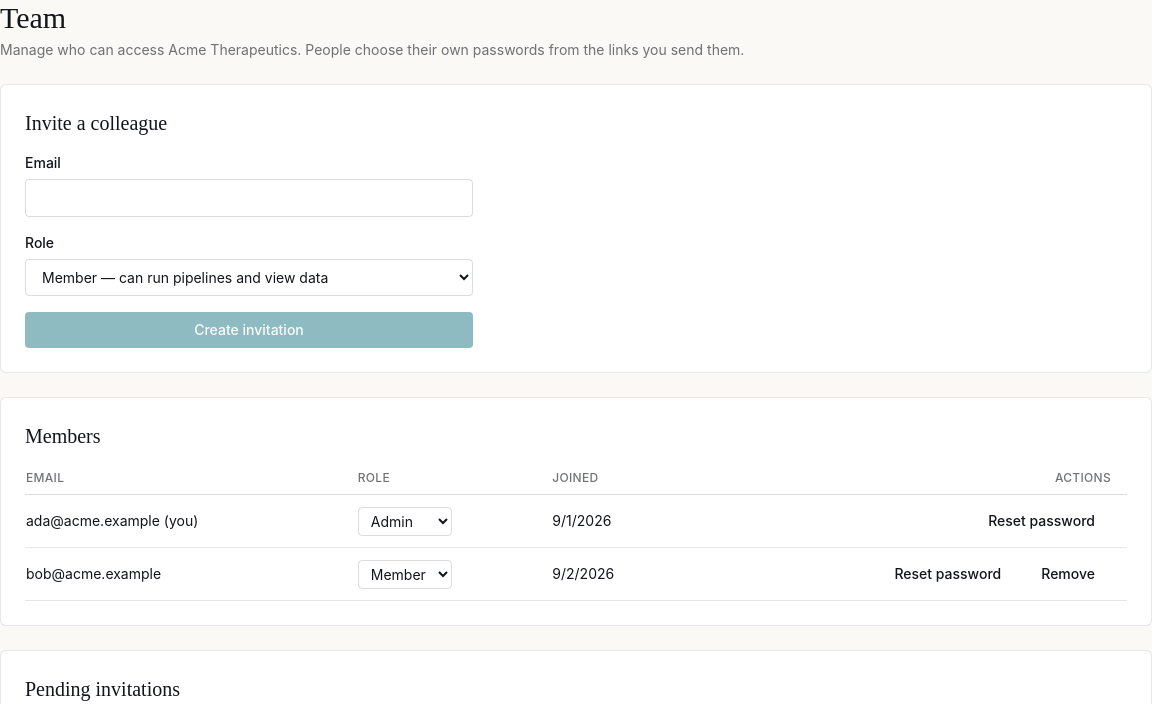
Test: Team › removes a member after confirmation
The image size is (1152, 704).
Step 1. Click the button "Remove" → x=1068, y=574, box top-left (1025, 556), bottom-right (1111, 592)
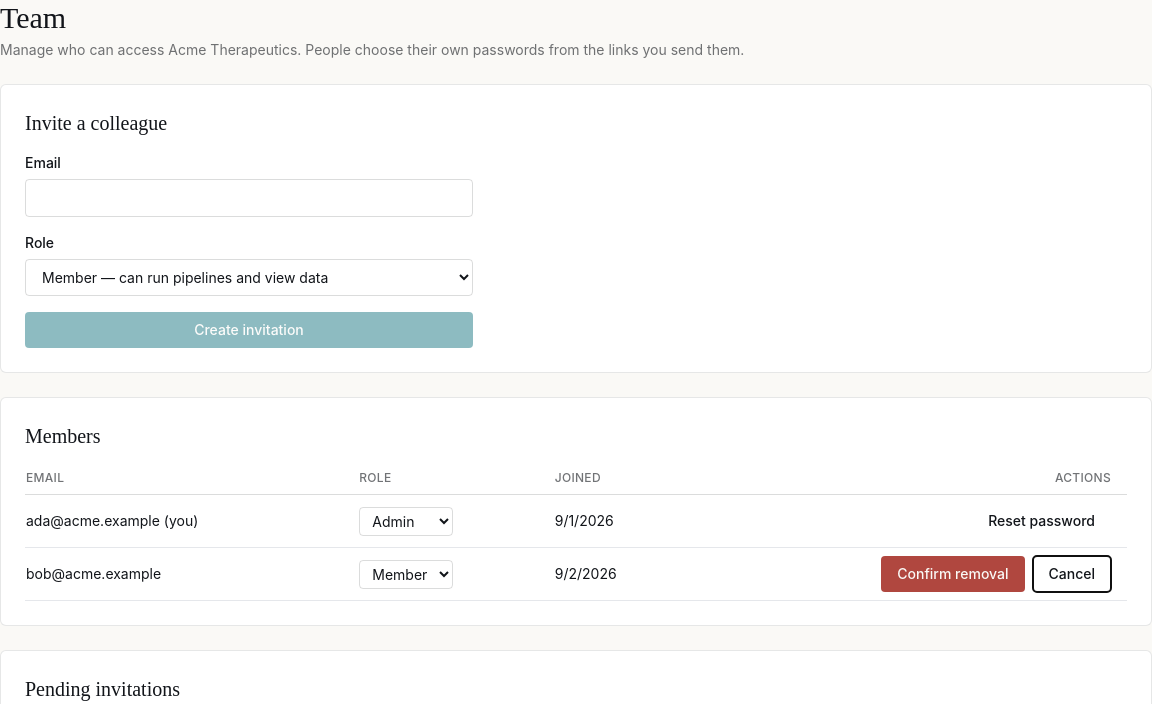
Step 2. Click the button "Cancel" → x=1072, y=574, box top-left (1032, 556), bottom-right (1111, 592)
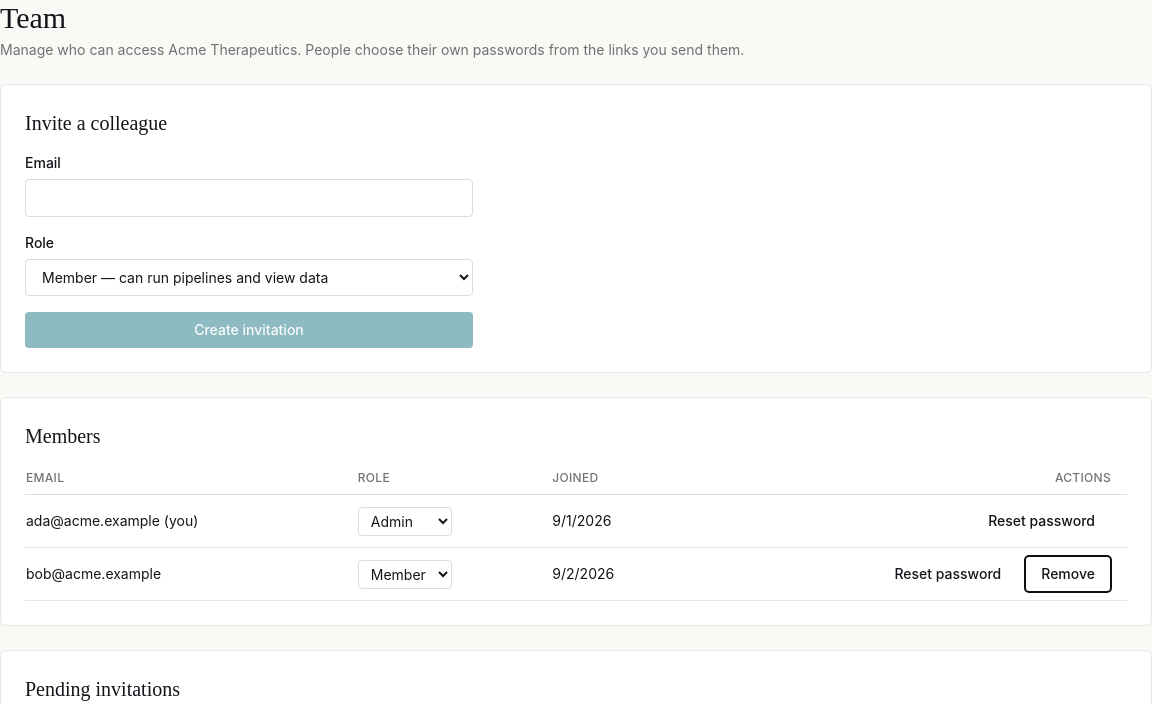
Step 3. Click the button "Remove" → x=1068, y=574, box top-left (1025, 556), bottom-right (1111, 592)
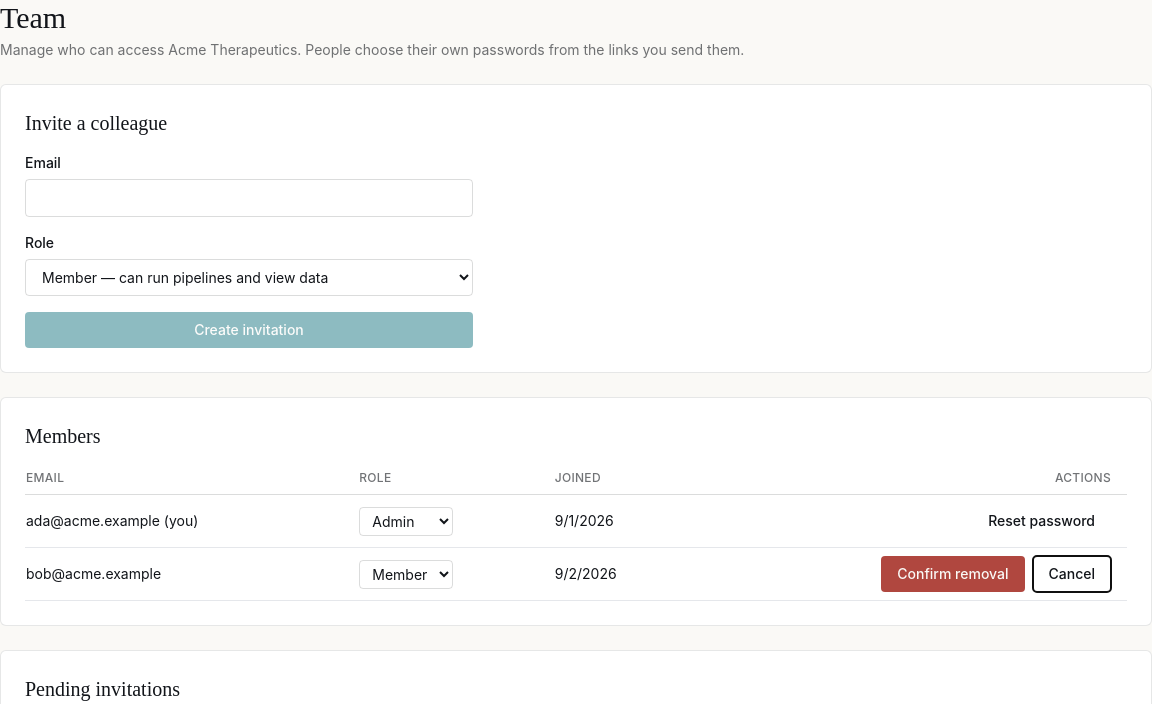
Step 4. Click the button "Confirm removal" → x=953, y=574, box top-left (881, 556), bottom-right (1024, 592)
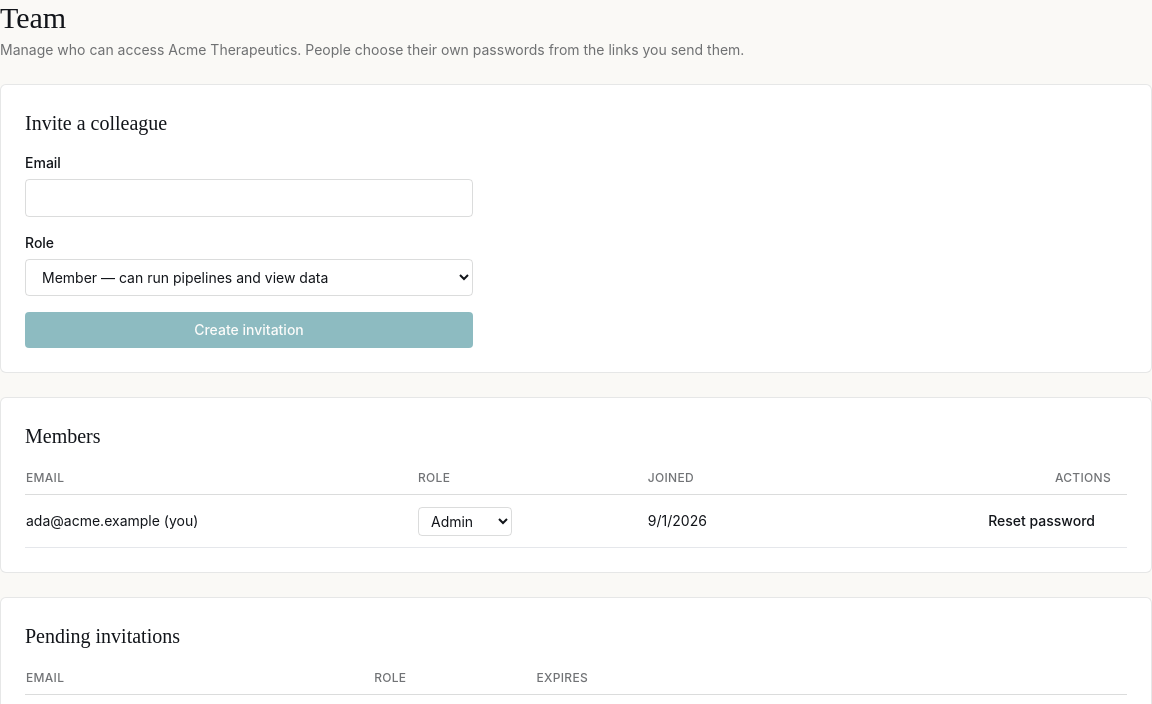
Expected: the text "bob@acme.example" is gone
